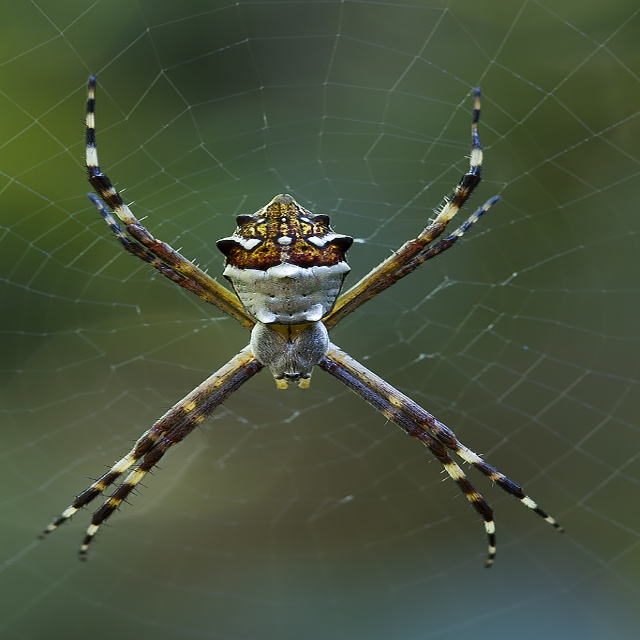Spider: (37, 74, 565, 569)
